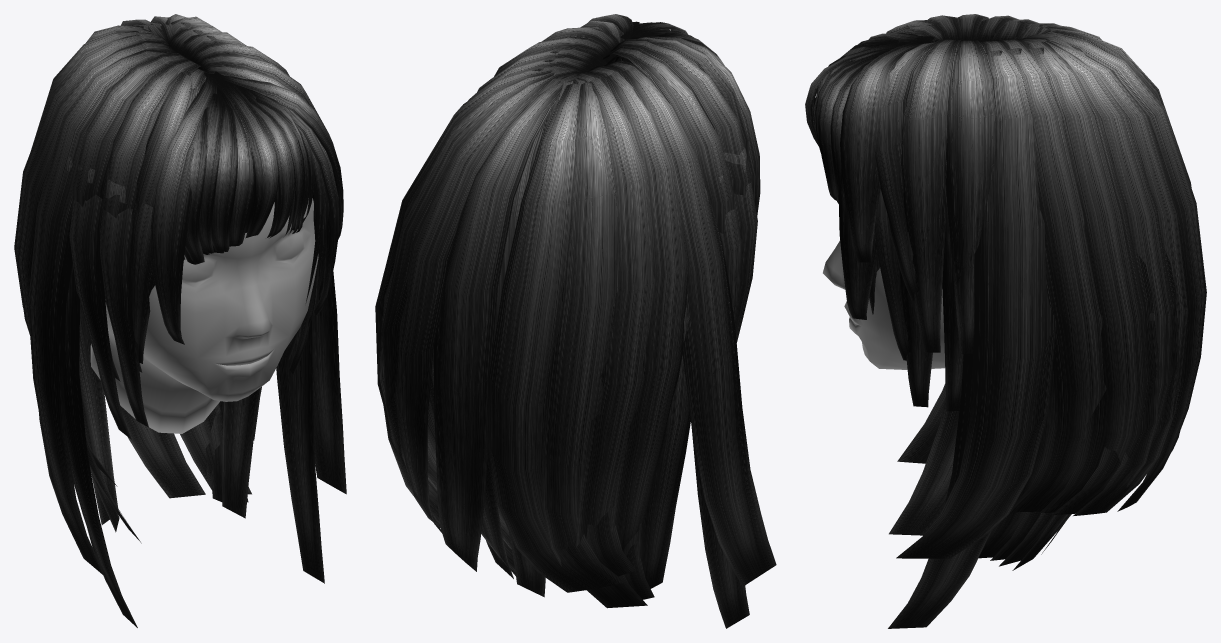
3 renders of one model, left to right at view 1: azimuth 30°, elevation 25°; view 2: azimuth 150°, elevation 25°; view 3: azimuth 270°, elevation 25°, orthographic. The views are drawn at different scales.
Parts seen in each view (by area): view 1: Plane002, Plane038, Plane022, Plane023, Plane048, Plane017, Plane016, Plane024, Plane036, Plane037, Plane039, Plane026 (+28 smaller); view 2: Plane042, Plane043, Plane041, Plane038, Plane040, Plane039, Plane044, Plane045, Plane027, Plane037, Plane046, Plane036 (+13 smaller); view 3: Plane048, Plane046, Plane047, Plane045, Plane050, Plane049, Plane043, Plane052, Plane044, Plane051, Plane023, Plane024 (+14 smaller).
Part boxes in pixels (x1,y1,x2,y2): Plane002: (90,198,318,433); Plane038: (28,50,151,576); Plane022: (151,70,217,344); Plane023: (207,35,324,583); Plane048: (181,32,346,494); Plane017: (100,58,206,427); Plane016: (69,53,189,439); Plane024: (63,49,168,627); Plane036: (103,64,186,372); Plane037: (72,56,167,381); Plane039: (16,42,171,486); Plane026: (193,30,259,518); Plane042: (488,83,625,592); Plane043: (434,72,582,571); Plane041: (541,82,635,576); Plane038: (621,61,776,586); Plane040: (576,74,655,547); Plane039: (603,66,688,550); Plane044: (397,67,579,533); Plane045: (382,68,568,527); Plane027: (586,66,690,588); Plane037: (607,51,734,233); Plane046: (375,66,565,523); Plane036: (615,41,751,195); Plane048: (896,40,1056,558); Plane046: (1026,41,1159,512); Plane047: (998,39,1106,512); Plane045: (1025,40,1179,514); Plane050: (901,39,960,352); Plane049: (946,40,996,354); Plane043: (1020,33,1206,511); Plane052: (840,41,930,262); Plane044: (1022,38,1187,515); Plane051: (875,42,934,300); Plane023: (888,50,1002,628); Plane024: (889,19,1009,535).
Size of the model in its own units: 32.11 by 57.05 by 37.85.
Materials: 2 (1 with a texture image).
